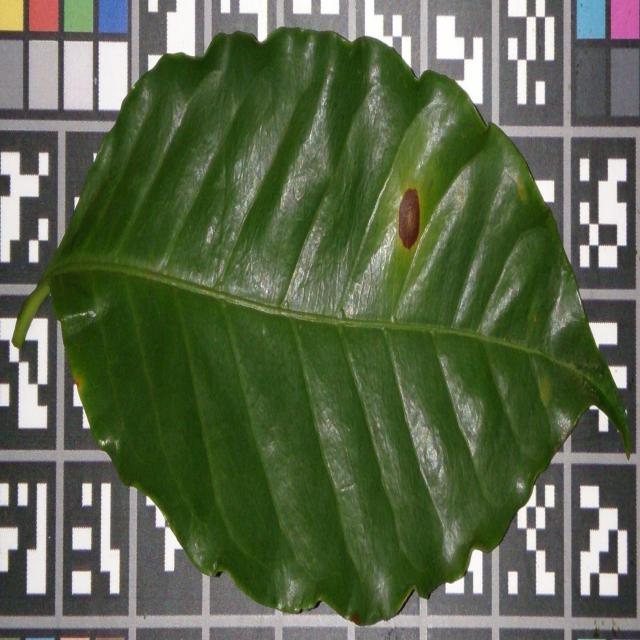Enfermedad-Mancha-de-hierro: (39, 28, 629, 629)
